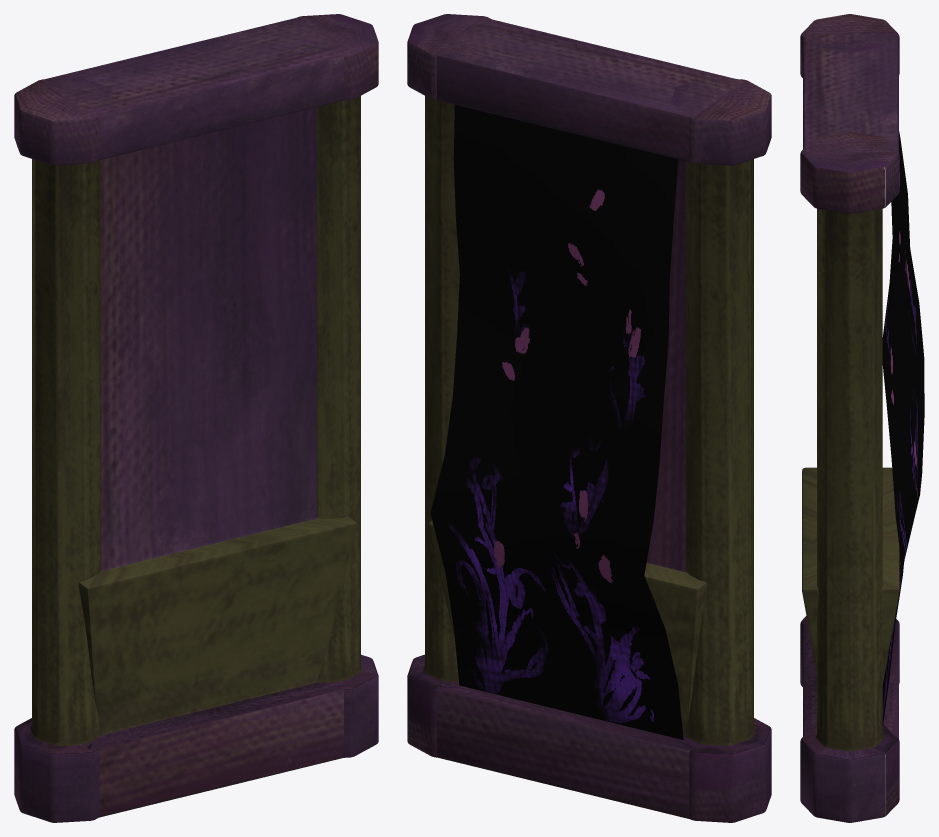
The model's file is MANOR_WALL_1_001.obj.
3 renders of one model, left to right at view 1: azimuth 30°, elevation 25°; view 2: azimuth 150°, elevation 25°; view 3: azimuth 270°, elevation 25°, orthographic. The views are drawn at different scales.
Visible parts, largest first — view 1: MANOR_WALL_1_001; view 2: MANOR_WALL_1_001; view 3: MANOR_WALL_1_001.
Part boxes in pixels (x1,y1,x2,y2): MANOR_WALL_1_001: (14, 14, 378, 822); MANOR_WALL_1_001: (407, 14, 771, 822); MANOR_WALL_1_001: (800, 14, 924, 822).
Bounding box in the file's own units: 1.57 × 3 × 0.5179.
